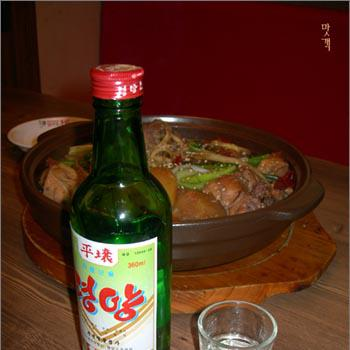soju: (64, 61, 175, 349)
